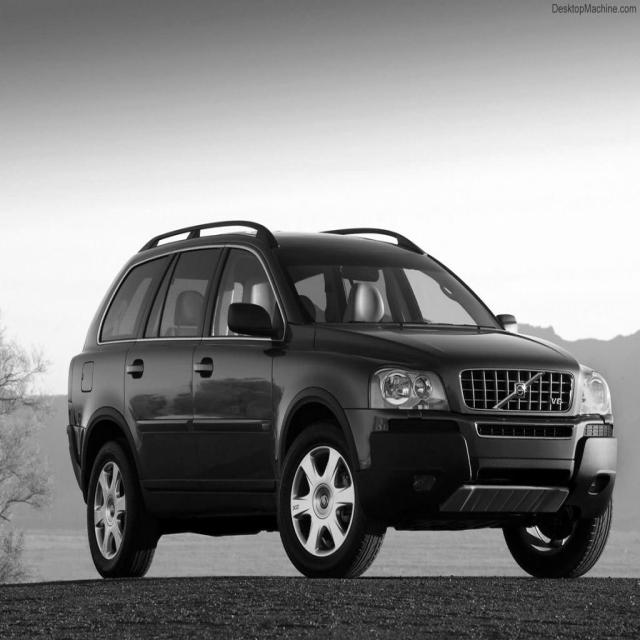car: (65, 218, 618, 580)
